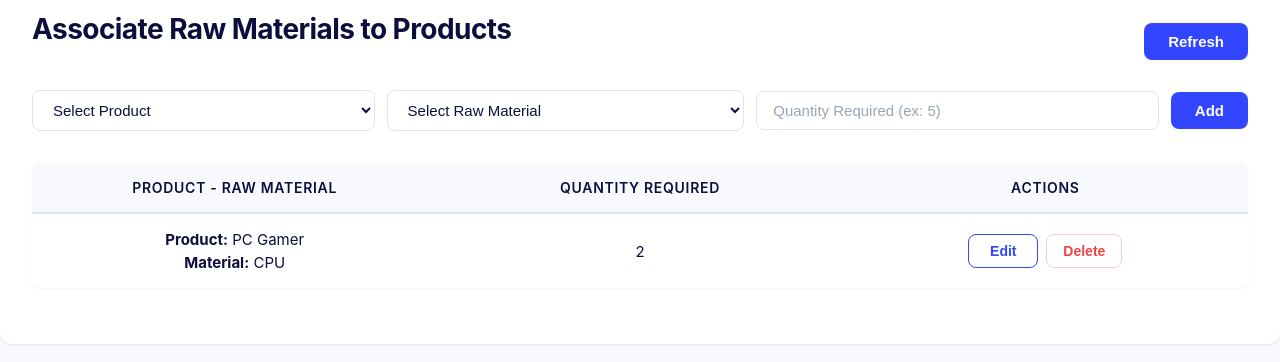
Test: ProductRawMaterials Component - Suite Completa › Editar Associação › cancela edição ao clicar em Cancel
The image size is (1280, 362).
Step 1. Click the button "Edit" → (1003, 251), box x1=968 y1=234 x2=1038 y2=268
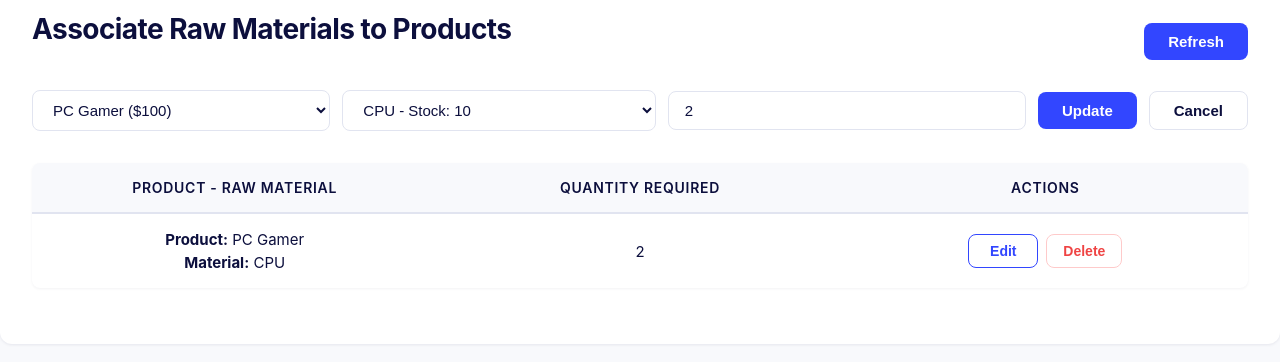
Step 2. Click the button "Cancel" → (1198, 110), box x1=1149 y1=91 x2=1248 y2=130
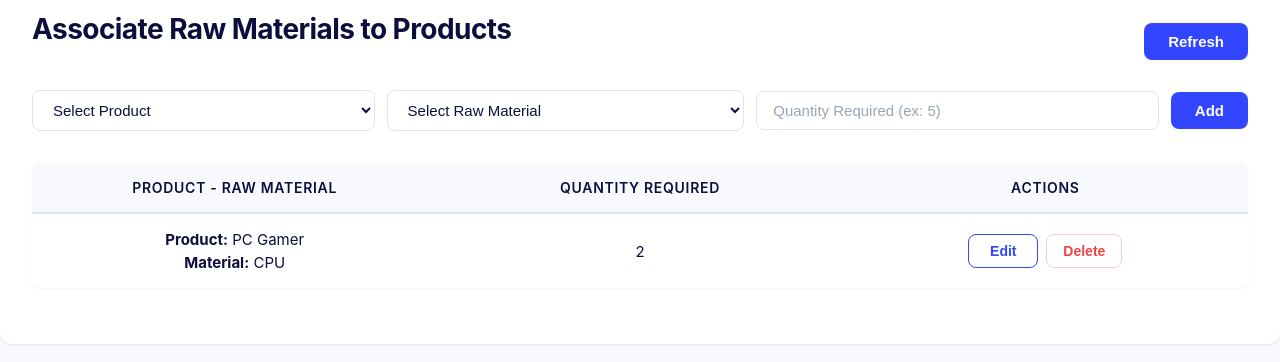
Now the 1st dropdown shows "Select Product", box x1=32 y1=90 x2=375 y2=131
Now the 2nd dropdown shows "Select Raw Material", box x1=387 y1=90 x2=744 y2=131
Now the number field with placeholder "Quantity Required (ex: 5)" is not empty, box x1=756 y1=91 x2=1159 y2=130
